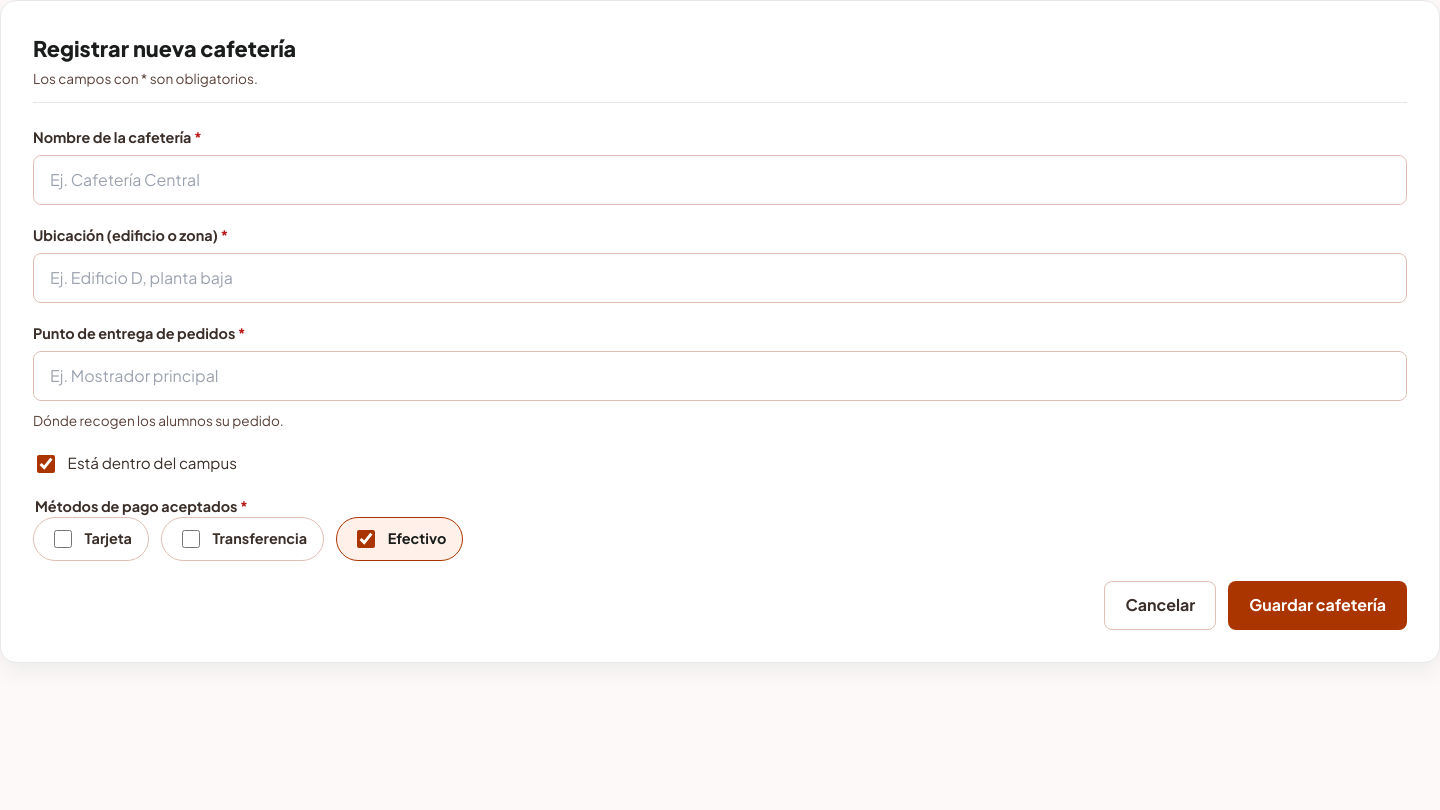
Scenario: CafeteriaFormComponent › no envía y muestra el resumen de errores si faltan datos o métodos de pago
Click the checkbox labelled "Efectivo" at (366, 539), box [357,530,375,548]
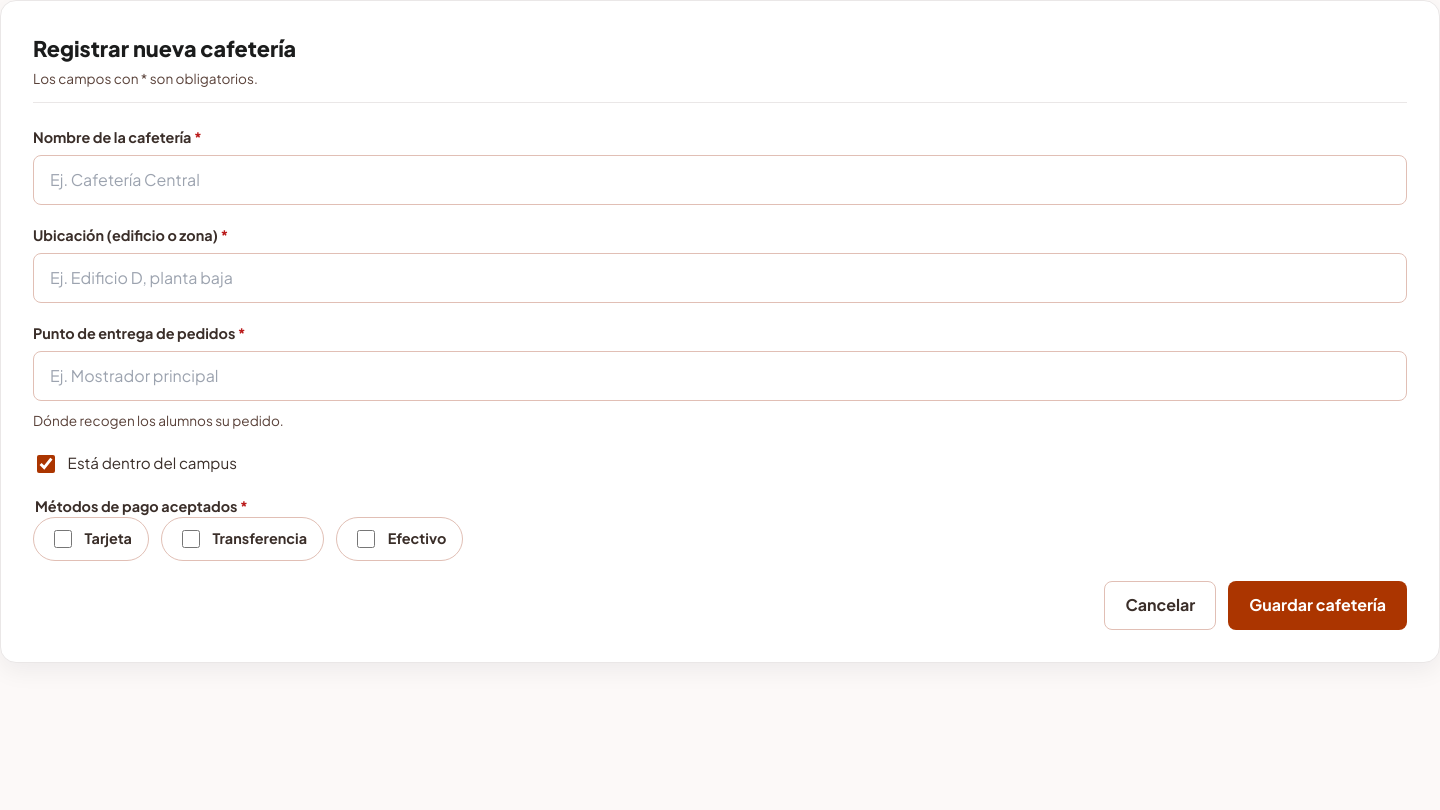
Click the submit button at (1318, 605), box [1228,581,1407,630]
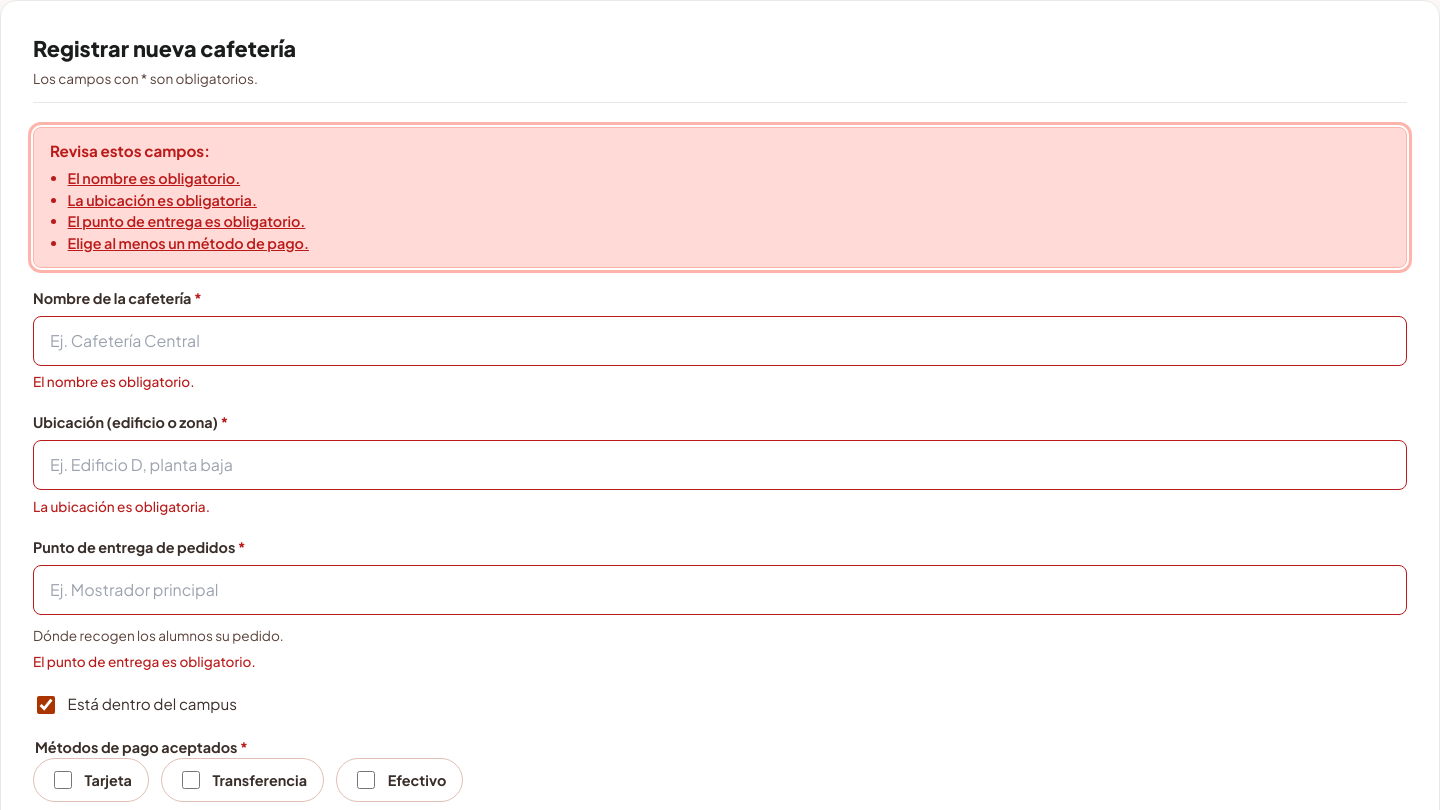
Check: the message with class "error-summary" shows "El nombre es obligatorio.", box [68,169,240,187]
Check: the message with class "error-summary" shows "Elige al menos un método de pago.", box [68,234,309,252]
